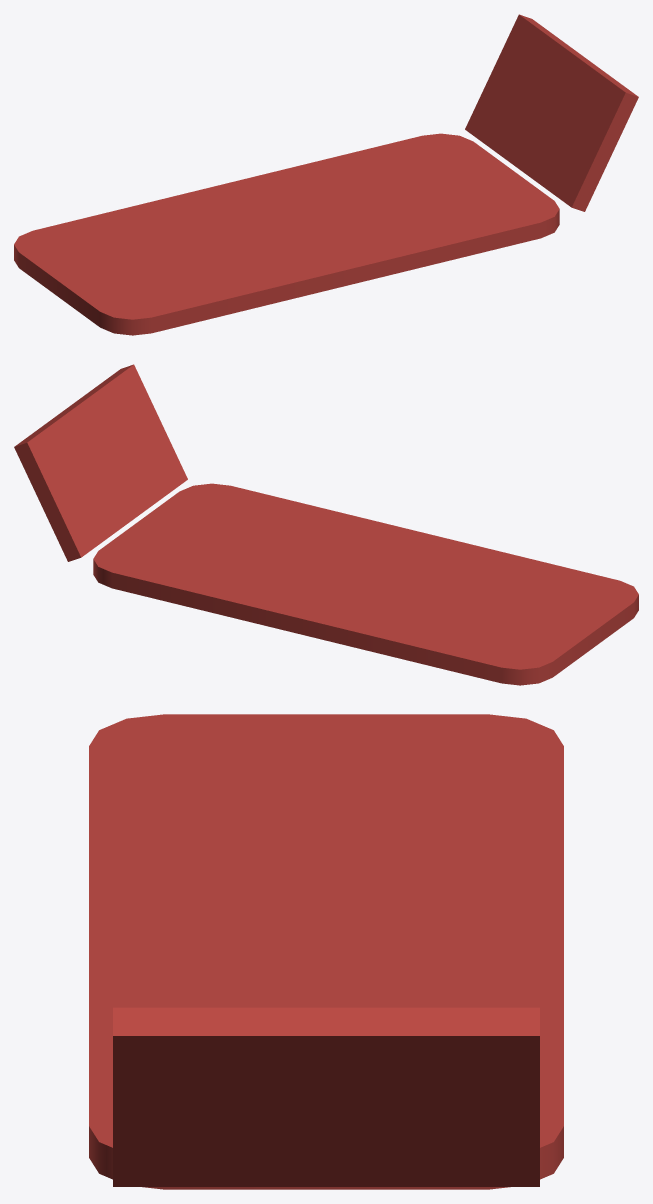
Rendered from skid_lod1.glb.
The picture shows the model from 3 angles, top to bottom: view 1: azimuth 30°, elevation 25°; view 2: azimuth 150°, elevation 25°; view 3: azimuth 270°, elevation 25°; orthographic projection. The views are drawn at different scales.
Parts seen in each view (by area): view 1: skid_lod1; view 2: skid_lod1; view 3: skid_lod1.
Boxes of the visible parts, bbox=[...] form: skid_lod1: bbox=[14, 14, 638, 335]; skid_lod1: bbox=[14, 364, 638, 685]; skid_lod1: bbox=[89, 714, 563, 1189].
Size of the model in its own units: 0.4861 by 0.1114 by 0.19.
